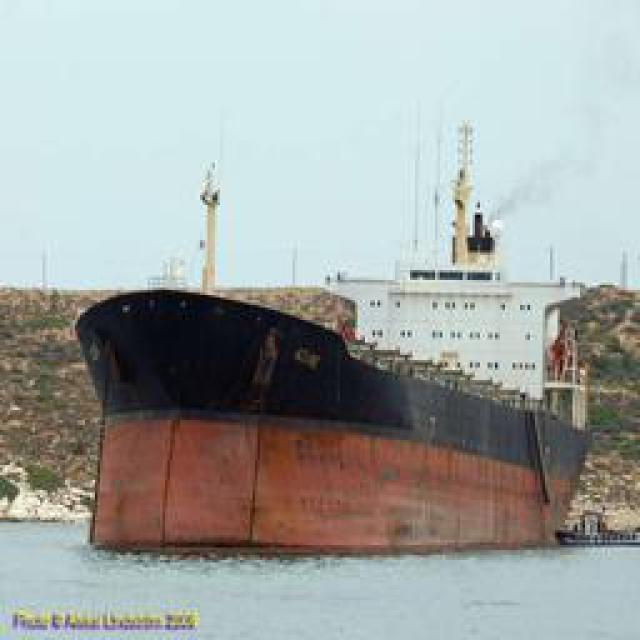Ship: (75, 240, 593, 563)
